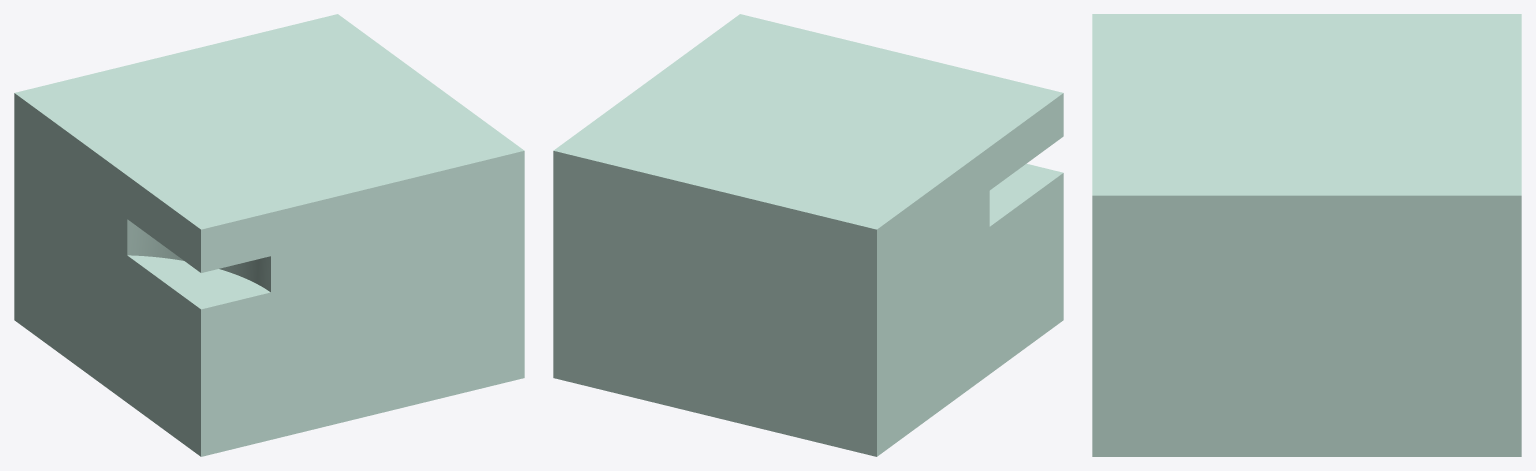
3 views of the same model, side by side, from view 1: azimuth 30°, elevation 25°; view 2: azimuth 150°, elevation 25°; view 3: azimuth 270°, elevation 25° (orthographic). The views are drawn at different scales.
Visible parts, largest first — view 1: Renderer Node; view 2: Renderer Node; view 3: Renderer Node.
Boxes of the visible parts, x1=… form: Renderer Node: x1=14, y1=14, x2=524, y2=456; Renderer Node: x1=553, y1=14, x2=1063, y2=456; Renderer Node: x1=1092, y1=14, x2=1521, y2=456.
Size of the model in its own units: 1.09 by 0.7344 by 1.09.
